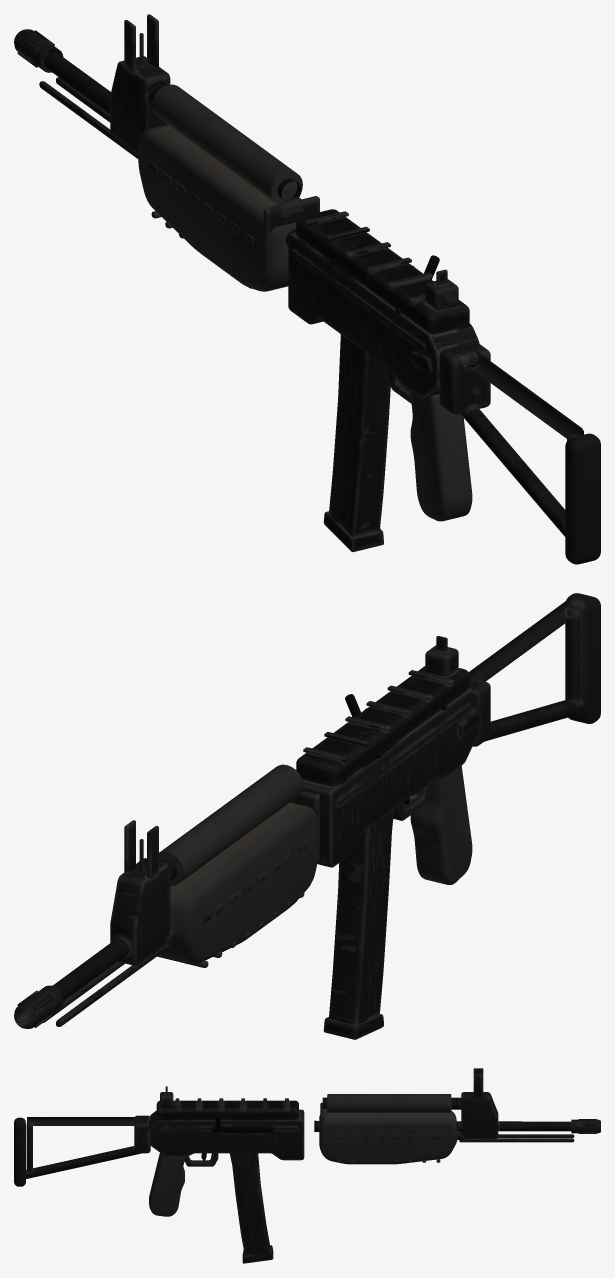
Rendered from galil.glb.
3 views of the same model, one above another, from view 1: azimuth 30°, elevation 25°; view 2: azimuth 150°, elevation 25°; view 3: azimuth 270°, elevation 25° (orthographic). The views are drawn at different scales.
Visible parts, largest first — view 1: body_receiver, body_furniture, mag_receiver, body_metal; view 2: body_receiver, body_furniture, mag_receiver, body_metal; view 3: body_receiver, body_furniture, mag_receiver, body_metal, bolt_metal.
Part boxes in pixels (left/top/right/bottom): body_receiver: left=14, top=14, right=583, bottom=536; body_furniture: left=138, top=84, right=472, bottom=521; mag_receiver: left=323, top=334, right=390, bottom=551; body_metal: left=330, top=259, right=600, bottom=564; body_receiver: left=14, top=598, right=584, bottom=1028; body_furniture: left=157, top=764, right=472, bottom=967; mag_receiver: left=323, top=809, right=394, bottom=1039; body_metal: left=365, top=593, right=600, bottom=804; body_receiver: left=26, top=1068, right=600, bottom=1178; body_furniture: left=149, top=1094, right=457, bottom=1216; mag_receiver: left=229, top=1153, right=273, bottom=1263; body_metal: left=14, top=1113, right=257, bottom=1186; bolt_metal: left=213, top=1114, right=273, bottom=1132.
Bounding box in the file's own units: 0.0808 × 0.3799 × 1.07.
Materials: 5 (5 with a texture image).
